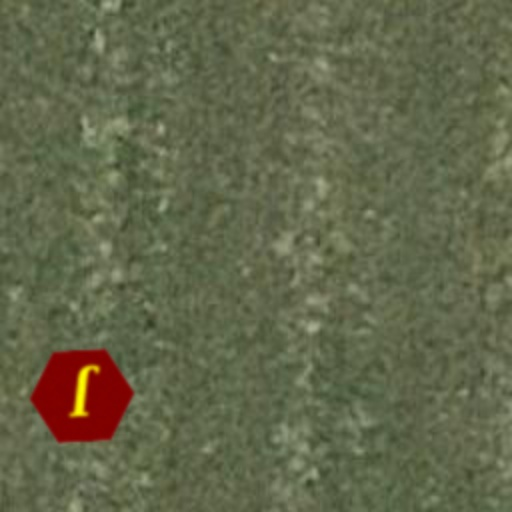hexagon: (26, 340, 138, 452)
